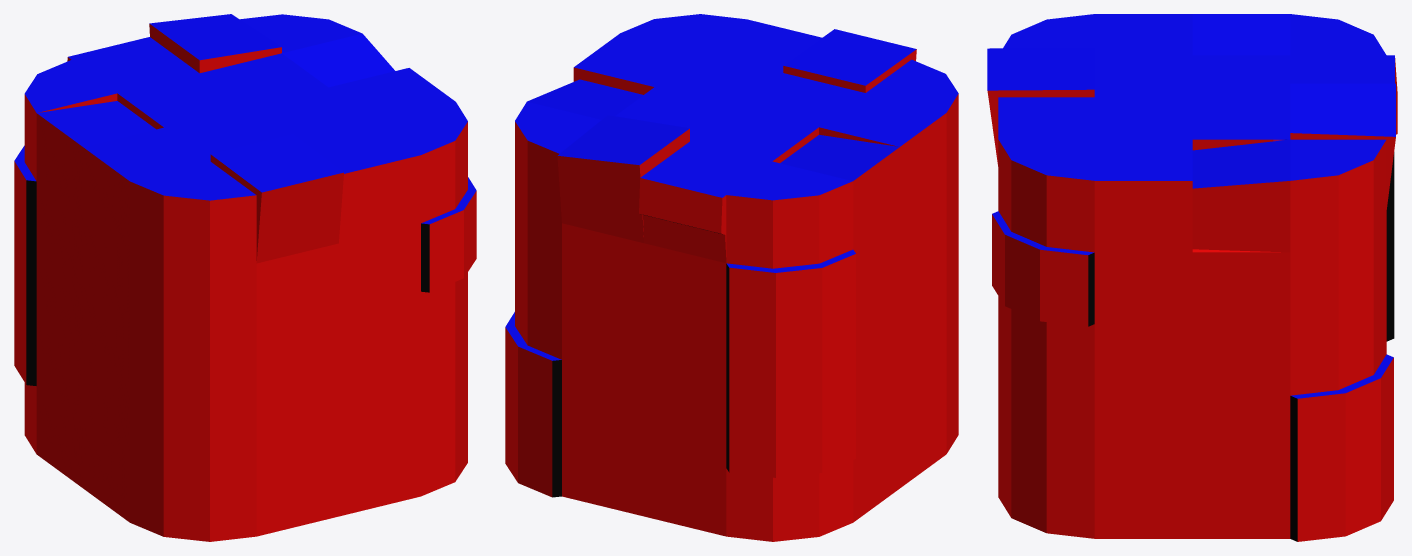
File: Block_Isolated_v2.fbx
3 renders of one model, left to right at view 1: azimuth 30°, elevation 25°; view 2: azimuth 150°, elevation 25°; view 3: azimuth 270°, elevation 25°, orthographic. The views are drawn at different scales.
Visible parts, largest first — view 1: Cube.029; view 2: Cube.029; view 3: Cube.029.
Part boxes in pixels (bbox=[...]): Cube.029: bbox=[14, 14, 476, 541]; Cube.029: bbox=[505, 14, 958, 541]; Cube.029: bbox=[987, 14, 1397, 541].
Bounding box in the file's own units: 100 × 100 × 100.
